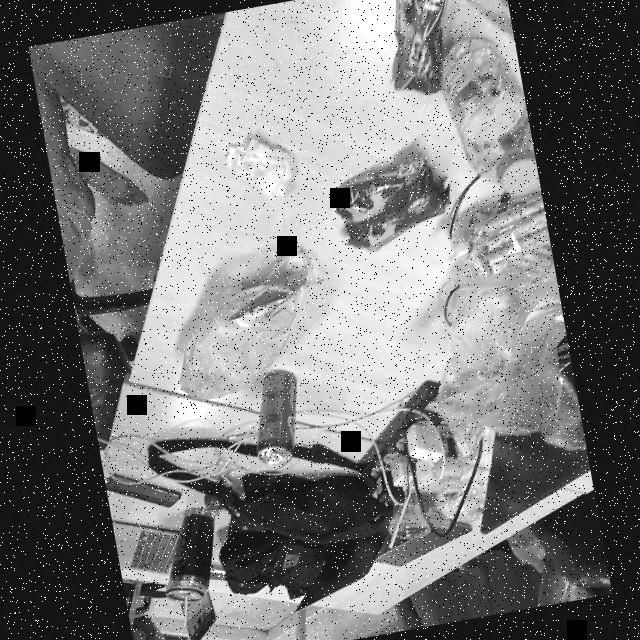can: (242, 363, 315, 472)
plastic_bag: (418, 264, 586, 478), (156, 238, 340, 414)
plastic_bottle: (426, 24, 542, 209), (422, 420, 472, 508)
plastic_bottle_cap: (486, 149, 542, 201)
plastic_box: (436, 487, 497, 538)
plastic_cup: (372, 472, 438, 554)
scrap_paper: (219, 123, 308, 212)
snack_bag: (322, 142, 460, 260), (438, 190, 556, 298), (370, 0, 471, 108)
straw: (376, 486, 424, 550), (172, 592, 199, 630)
